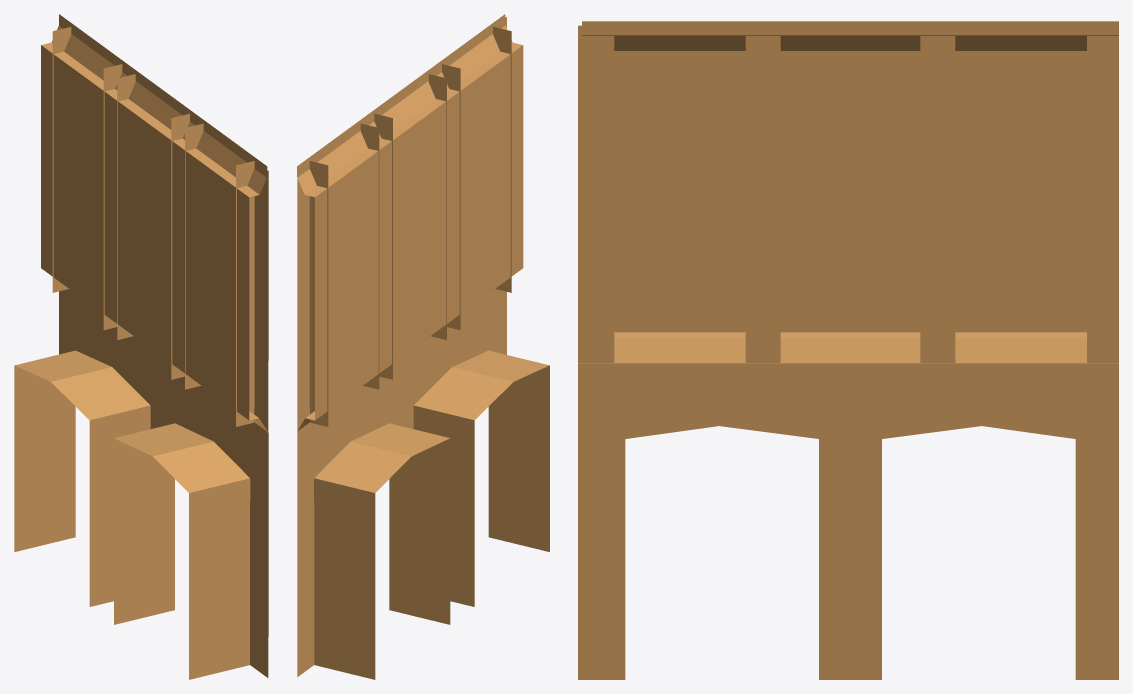
Rendered from Museum_Ark_Door.fbx.
The picture shows the model from 3 angles, left to right: view 1: azimuth 30°, elevation 25°; view 2: azimuth 150°, elevation 25°; view 3: azimuth 270°, elevation 25°; orthographic projection. The views are drawn at different scales.
Parts seen in each view (by area): view 1: Archi_Portes_01.001; view 2: Archi_Portes_01.001; view 3: Archi_Portes_01.001.
Part boxes in pixels (box(x1,y1,x2,y2)): Archi_Portes_01.001: box(14, 14, 268, 679); Archi_Portes_01.001: box(297, 14, 549, 679); Archi_Portes_01.001: box(578, 21, 1118, 679).
Bounding box in the file's own units: 91.16 × 724 × 538.
